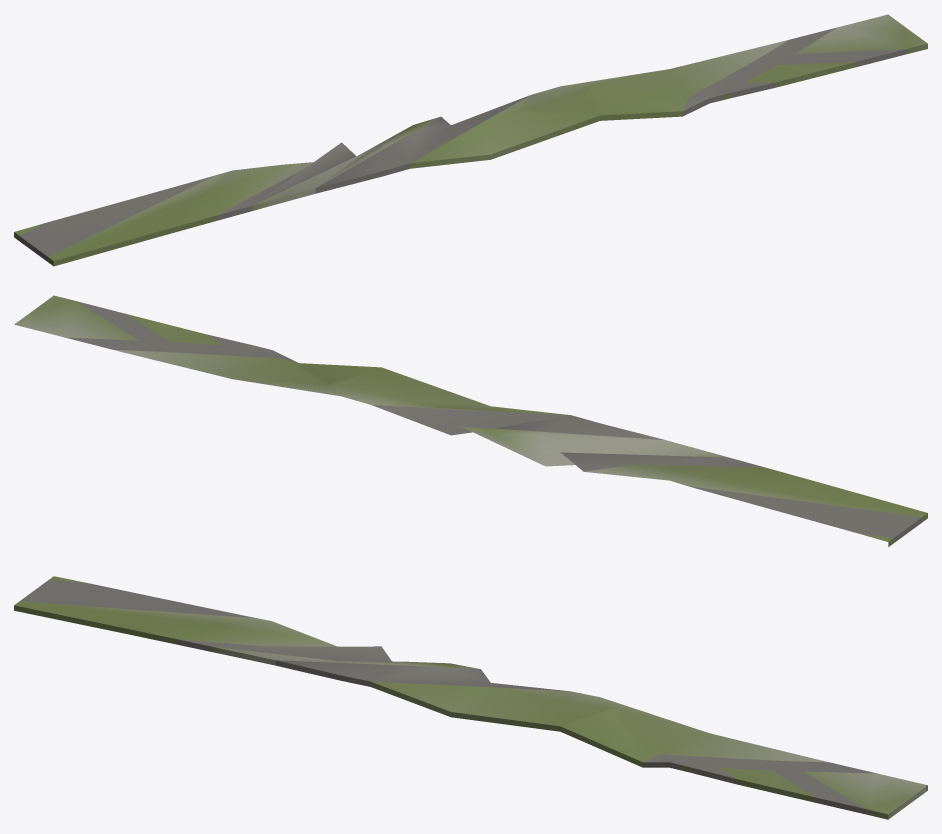
3 renders of one model, top to bottom at view 1: azimuth 30°, elevation 25°; view 2: azimuth 150°, elevation 25°; view 3: azimuth 330°, elevation 25°, orthographic.
Visible parts, largest first — view 1: D--3--6.L0:utd:matte; view 2: D--3--6.L0:utd:matte; view 3: D--3--6.L0:utd:matte.
Boxes of the visible parts, bbox=[...] form: D--3--6.L0:utd:matte: bbox=[14, 14, 927, 266]; D--3--6.L0:utd:matte: bbox=[14, 295, 927, 546]; D--3--6.L0:utd:matte: bbox=[14, 576, 927, 819].
Bounding box in the file's own units: 256 × 6.05 × 20.2.
